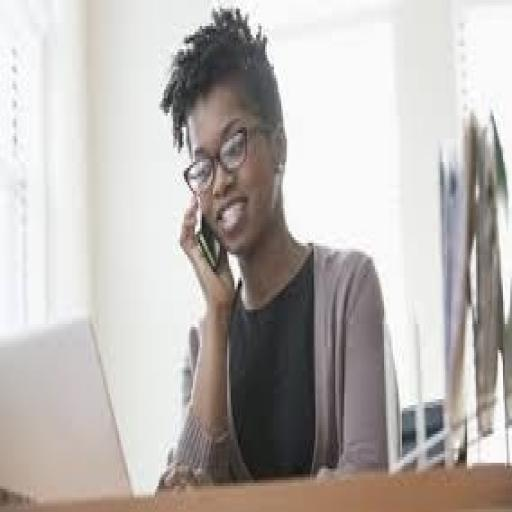calling: (153, 3, 404, 492)
